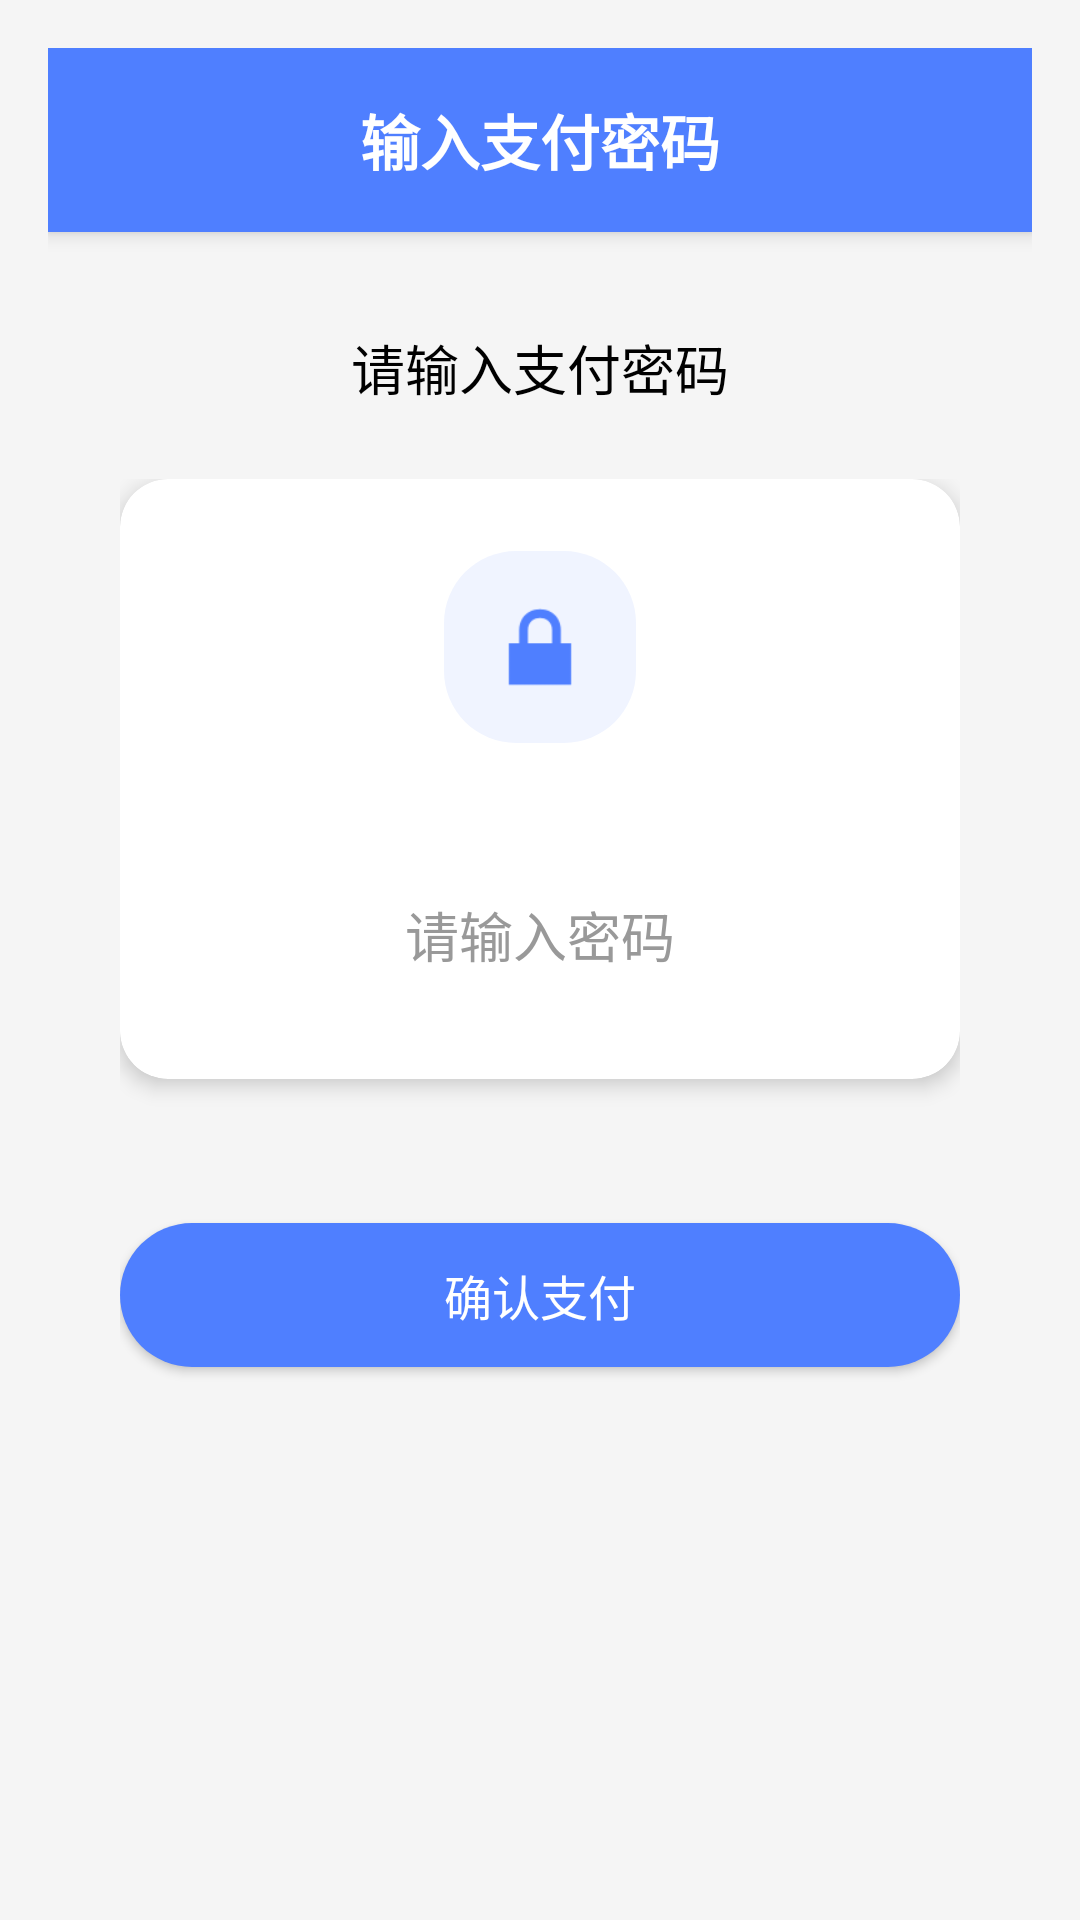

Where icons sit on this 1080w x 1920h app screen, as (x1, y1, x2, y2):
lock: (508, 608, 572, 686)
